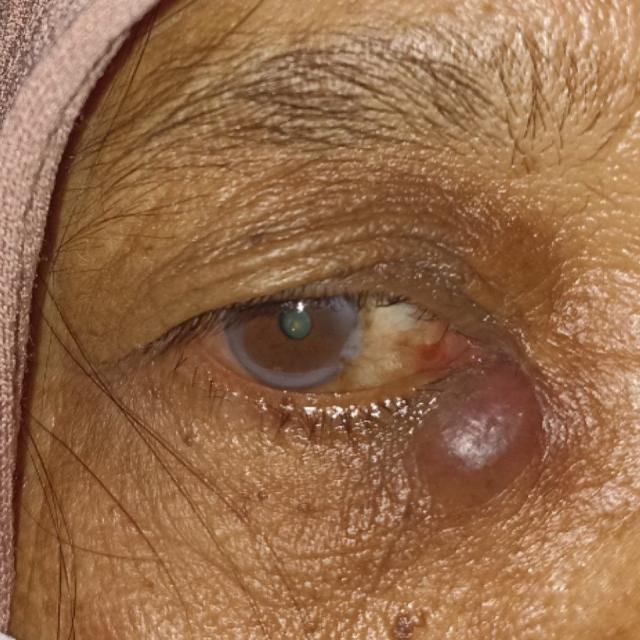Cataract: (228, 259, 359, 391)
